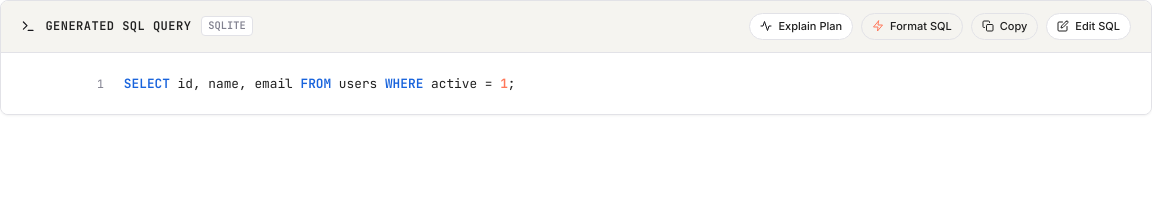
SqlViewer Component › toggles edit mode when Edit SQL is clicked and allows typing
The width and height of the screenshot is (1152, 224).
Click the button "Edit SQL" at (1089, 26), box [1046,13,1131,40]
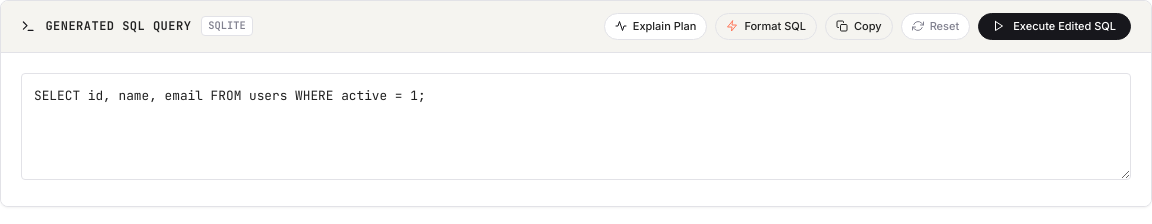
Check: the text box named "editable sql statement" holds "SELECT id, name, email FROM users WHERE active = 1;", box [21,72,1131,180]
Check: the button "Reset" is shown, box [901,13,970,40]
Check: the button "Execute Edited SQL" is shown, box [978,13,1131,40]
